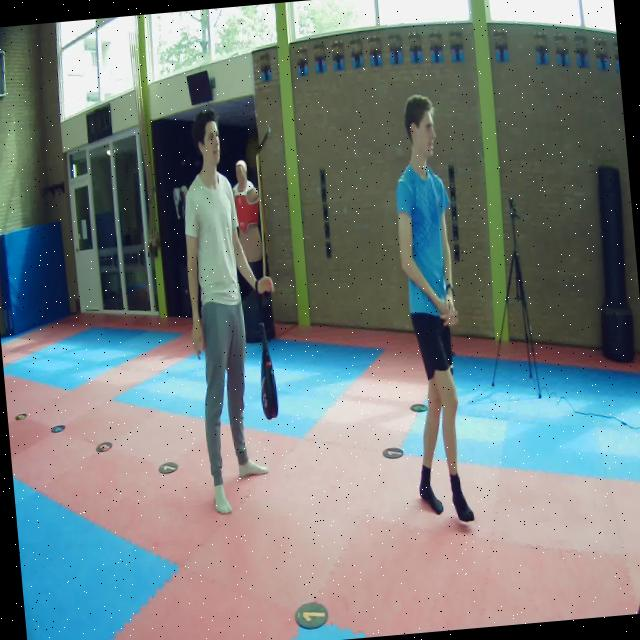paddle: (259, 322, 278, 418)
